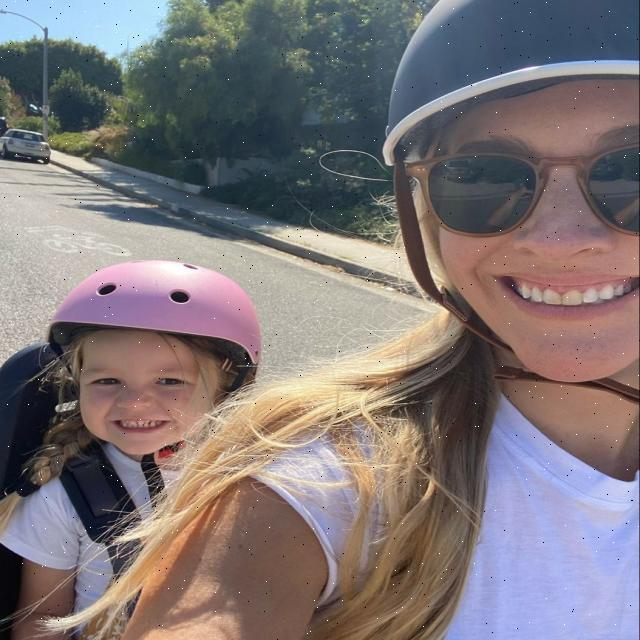helmet: (388, 0, 640, 410), (48, 260, 262, 462)
